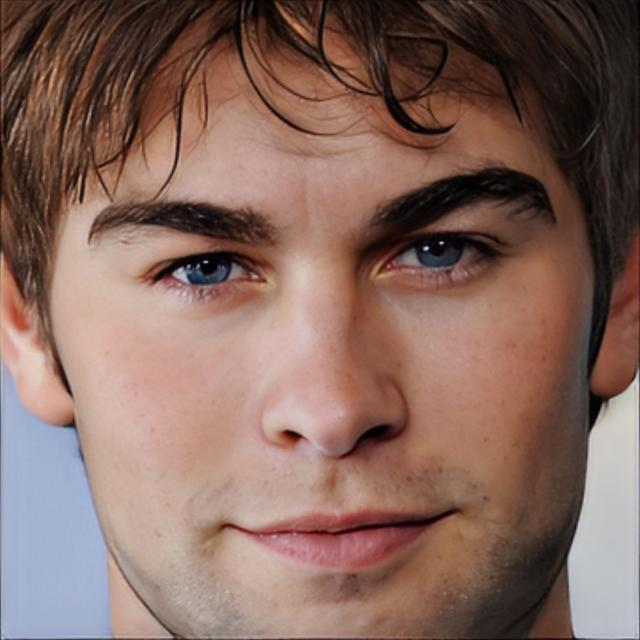content: (46, 0, 590, 640)
